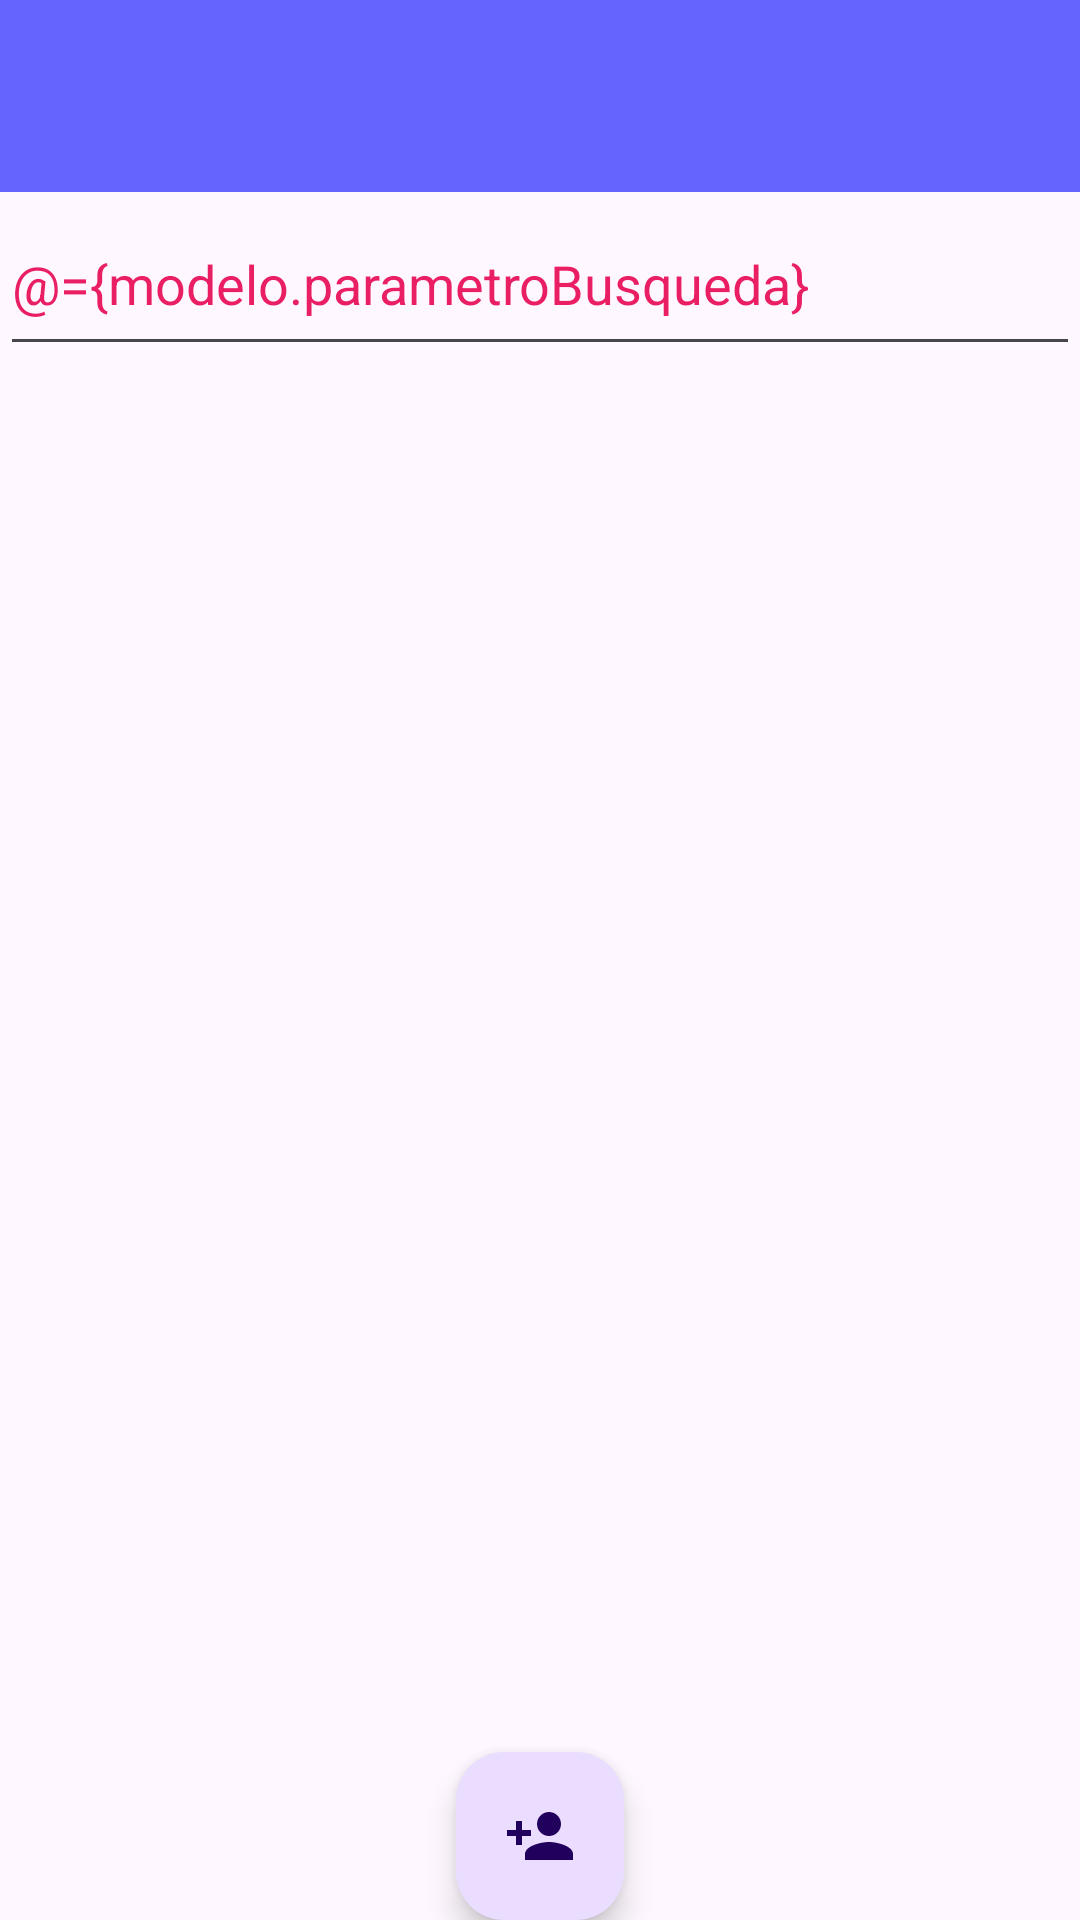

Where to tap for icons on this 1080×1920 app screen, as (x,y):
add: (540,1836)
